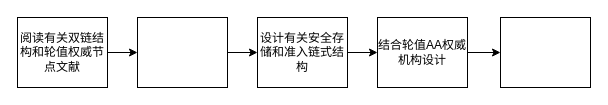
Image size: 608x105. Some labels were removed from this diagram. Here are the shapes that lost their labels. From the top down, the centre of each, then its label:
At pixel 182 52: "选取恰当的共识机制方案".
At pixel 545 52: "得到在安全存储链中实现双链结构并且AA轮值的方案".
